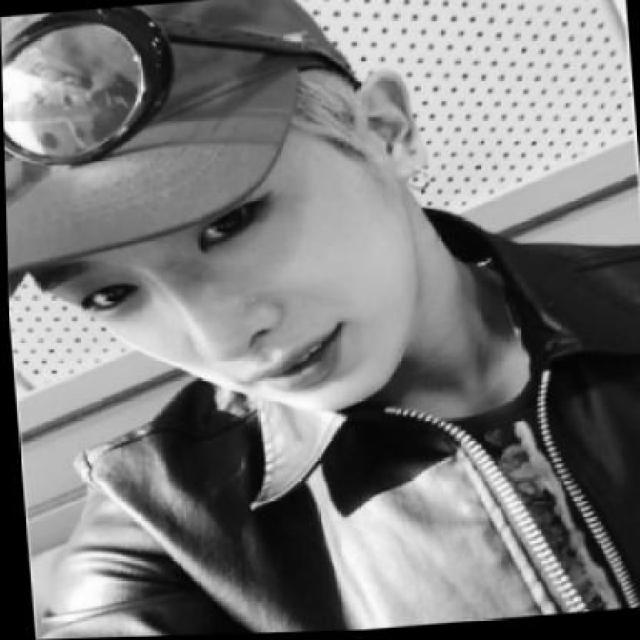hat: (0, 0, 343, 294)
